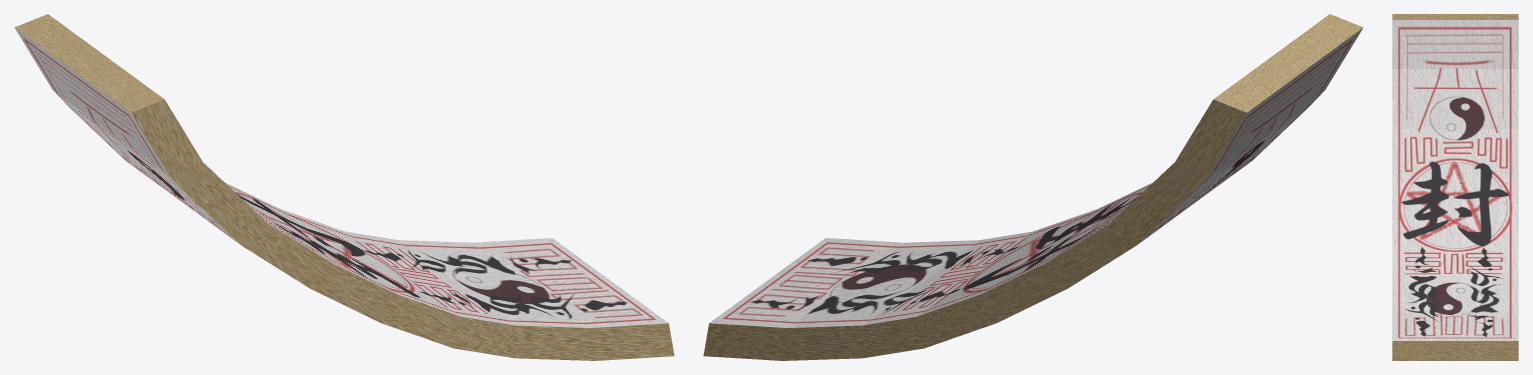
Rendered from ohuda.fbx.
3 renders of one model, left to right at view 1: azimuth 30°, elevation 25°; view 2: azimuth 150°, elevation 25°; view 3: azimuth 270°, elevation 25°, orthographic. The views are drawn at different scales.
Visible parts, largest first — view 1: Cube; view 2: Cube; view 3: Cube.
Boxes of the visible parts, x1=… form: Cube: x1=14, y1=14, x2=674, y2=360; Cube: x1=703, y1=14, x2=1363, y2=360; Cube: x1=1392, y1=14, x2=1518, y2=360.
Bounding box in the file's own units: 12 × 21.64 × 32.29.
1 material, 1 textured.
